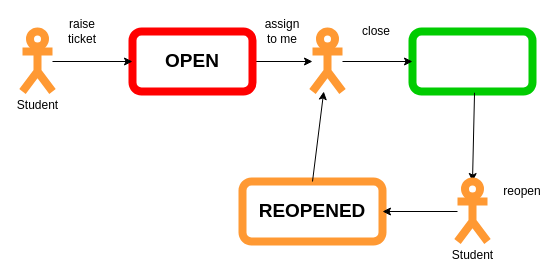
This 560x280 diagram has some shape labels left out. Here are the shapes that lost their labels. From the top down, the centre of each, then its label:
At point (327, 61): "Teacher".
At point (472, 61): "CLOSED".
